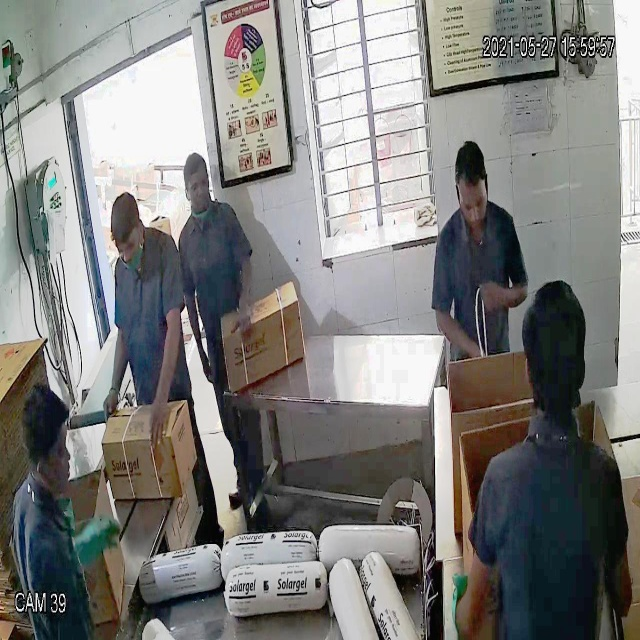Sin_gafas: (458, 187, 492, 220), (111, 234, 145, 260)
